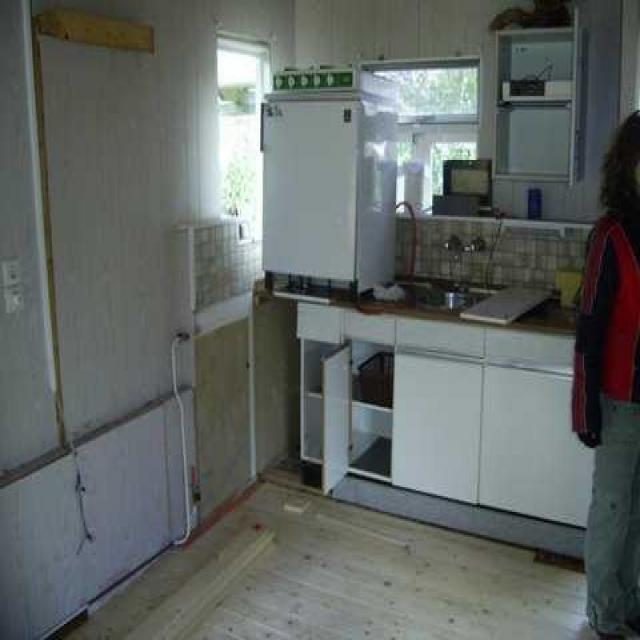refrigerator: (259, 93, 392, 284)
